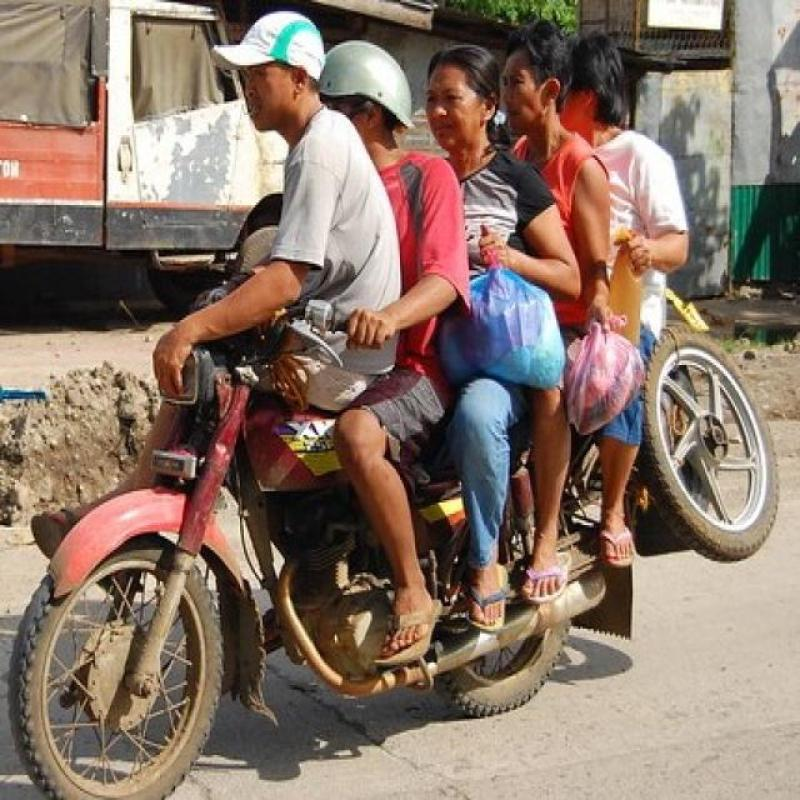nohelmet: (206, 0, 339, 139), (422, 26, 507, 160)
